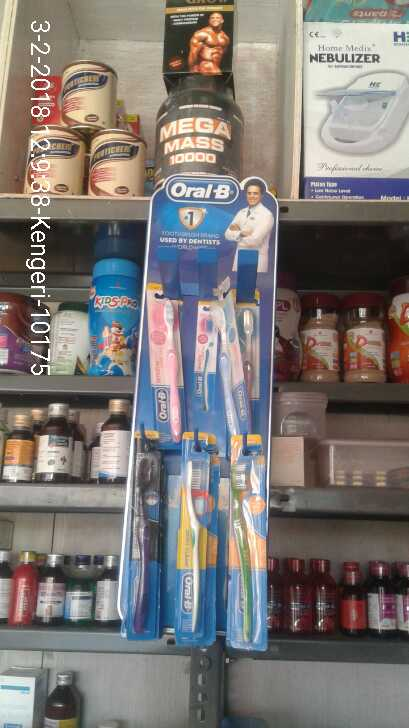oralb: (224, 444, 264, 643), (178, 448, 207, 647), (150, 299, 186, 442), (216, 302, 249, 439), (134, 449, 156, 630)
